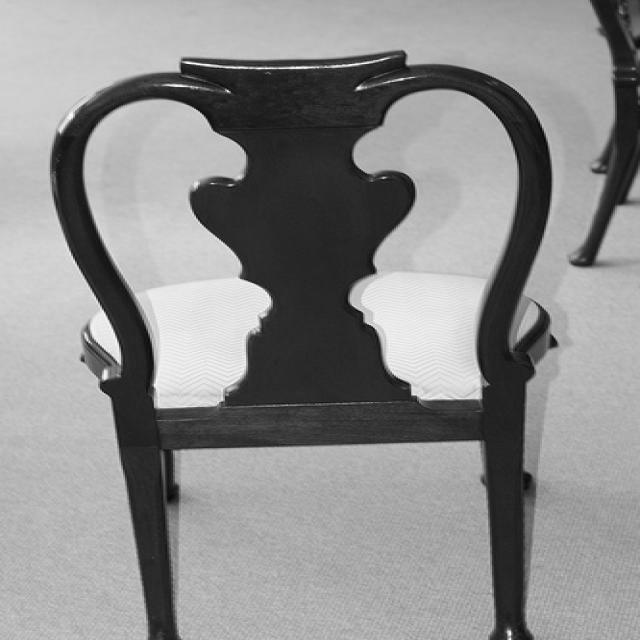chair: (46, 49, 557, 638)
